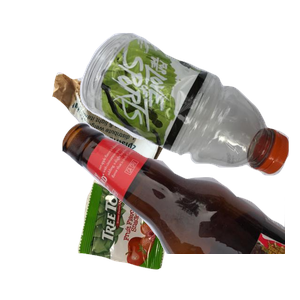cardboard: (50, 62, 228, 226)
glass: (60, 120, 300, 300)
plastic: (77, 30, 300, 198)
trash: (75, 156, 244, 300)
